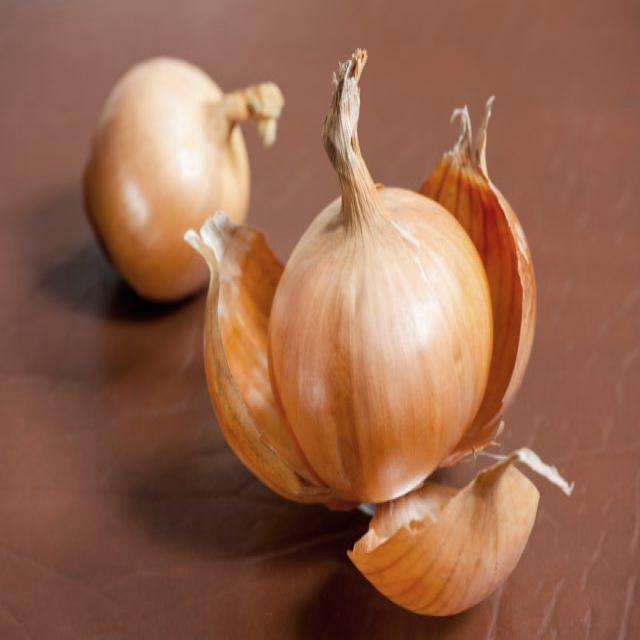onion: (269, 160, 497, 511), (76, 49, 266, 309)
